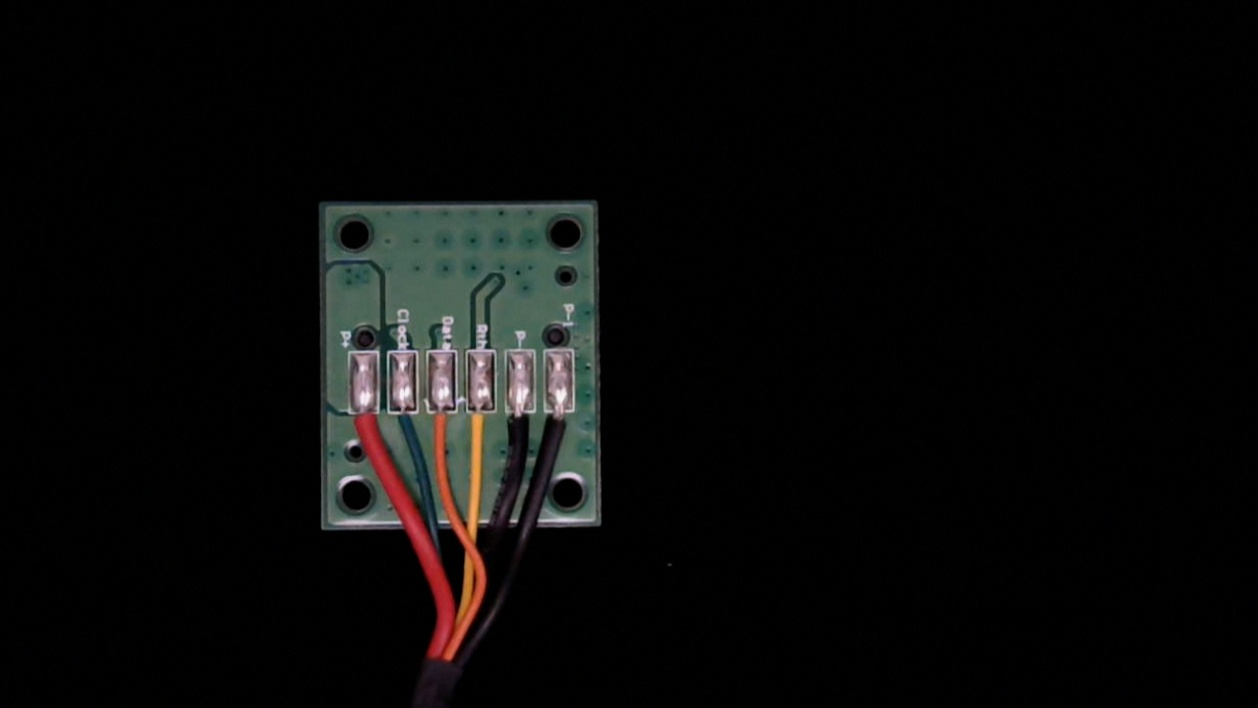Black: (503, 391, 539, 463)
Black1: (543, 391, 576, 458)
Green: (388, 386, 422, 455)
Orange: (427, 388, 460, 459)
Red: (348, 390, 383, 459)
Yellow: (468, 390, 502, 463)
